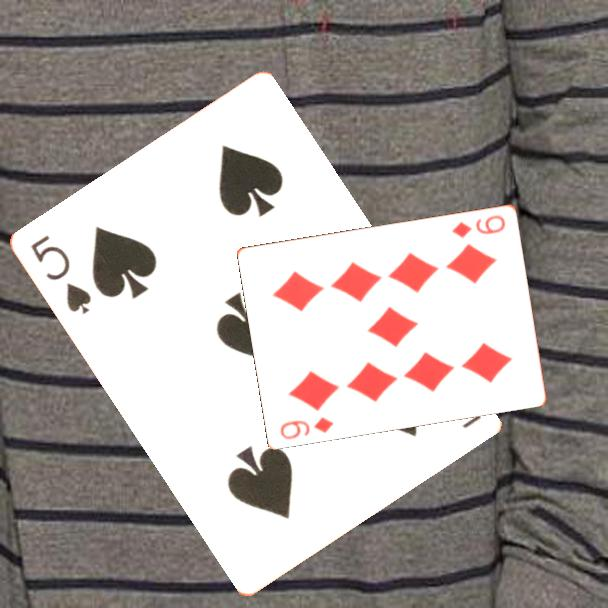d09: (449, 211, 509, 241), (277, 413, 337, 442)
s05: (27, 231, 95, 318)
